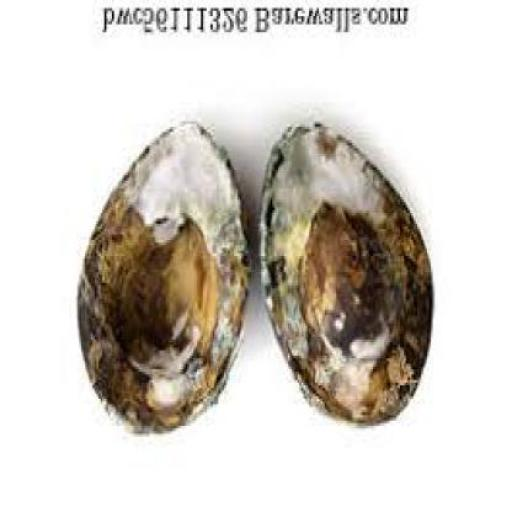biodegradable: (77, 127, 252, 439), (256, 124, 432, 429), (296, 207, 396, 370)
